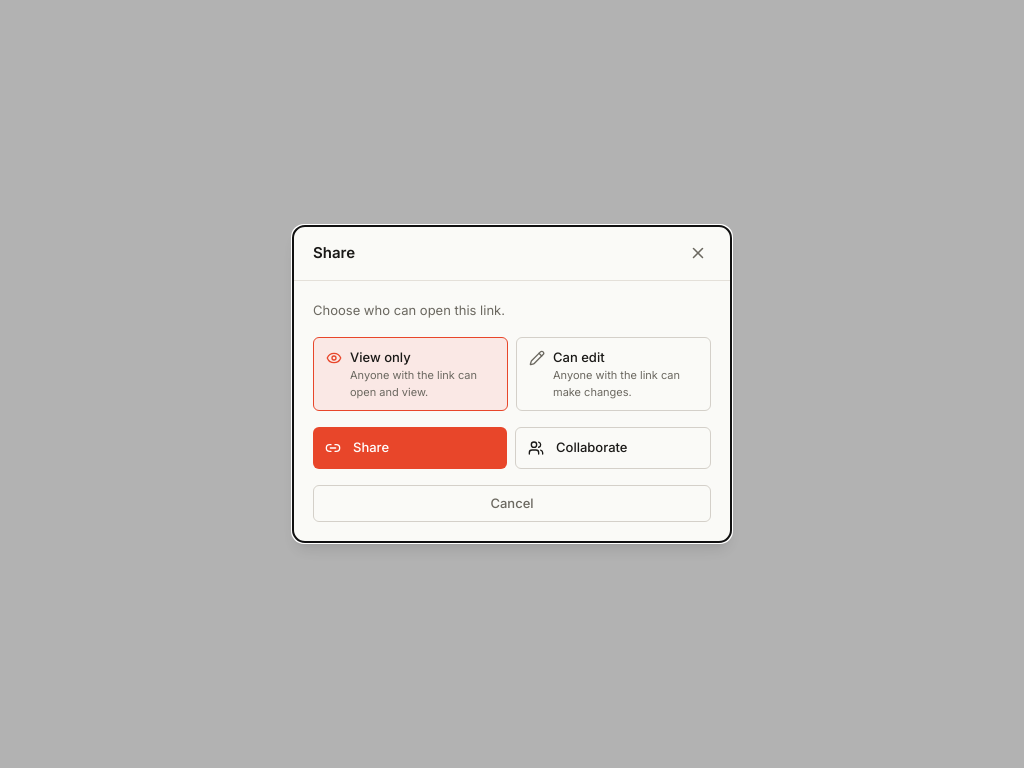
Test: ShareModal › shows the durable URL returned by the share service
Click the button "Share": coordinates (410, 448) [313,427,507,468]
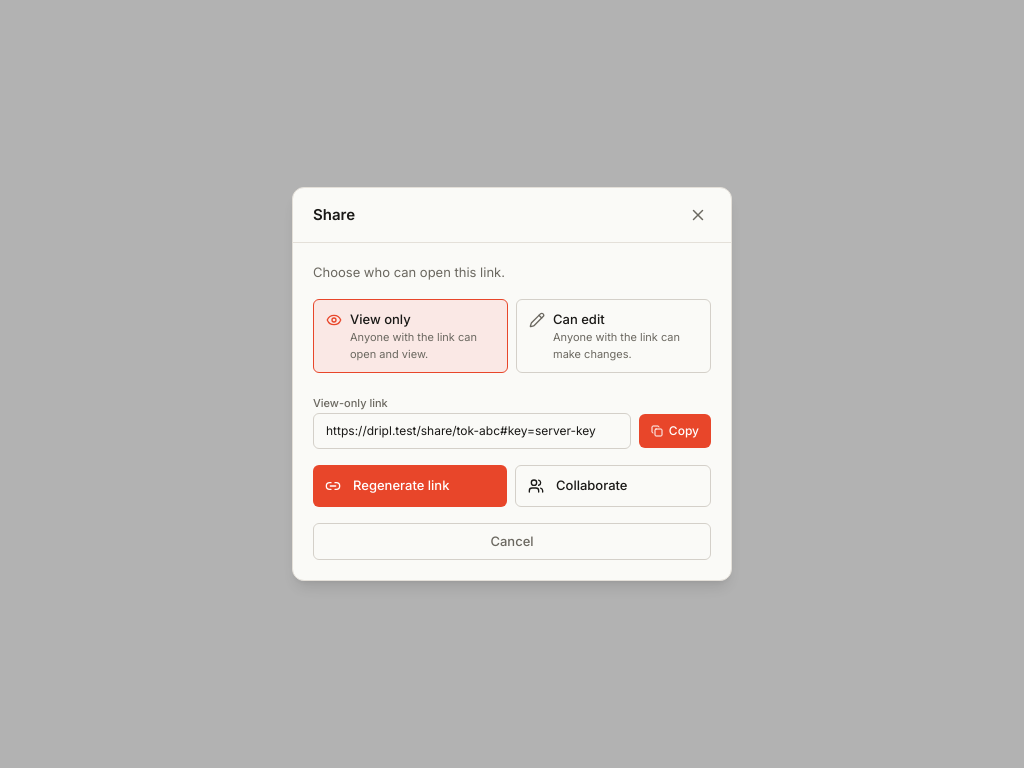
Now the field named "shareable link" holds "https://dripl.test/share/tok-abc#key=server-key", box [313,413,631,449]
